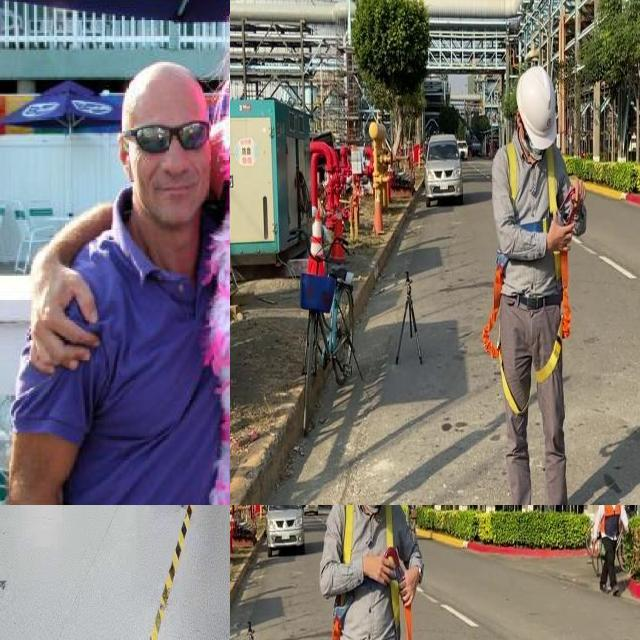Harness: (482, 264, 528, 416), (507, 140, 559, 232), (536, 252, 572, 384)
No_Ear-Protection: (113, 131, 138, 178)
face_nomask: (137, 121, 206, 202)
glasses: (125, 118, 211, 155)
hand_noglove: (21, 260, 103, 376)
head_nohelmet: (116, 57, 208, 104)
person: (21, 53, 230, 505)
